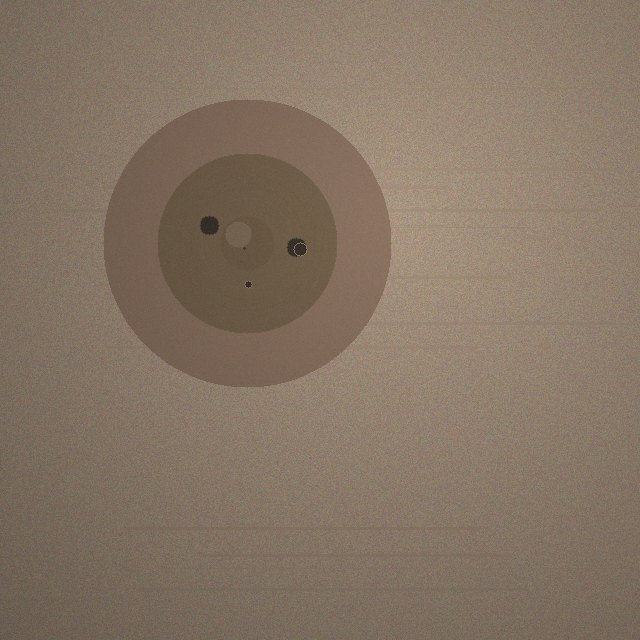shrinkage: (103, 99, 391, 387)
